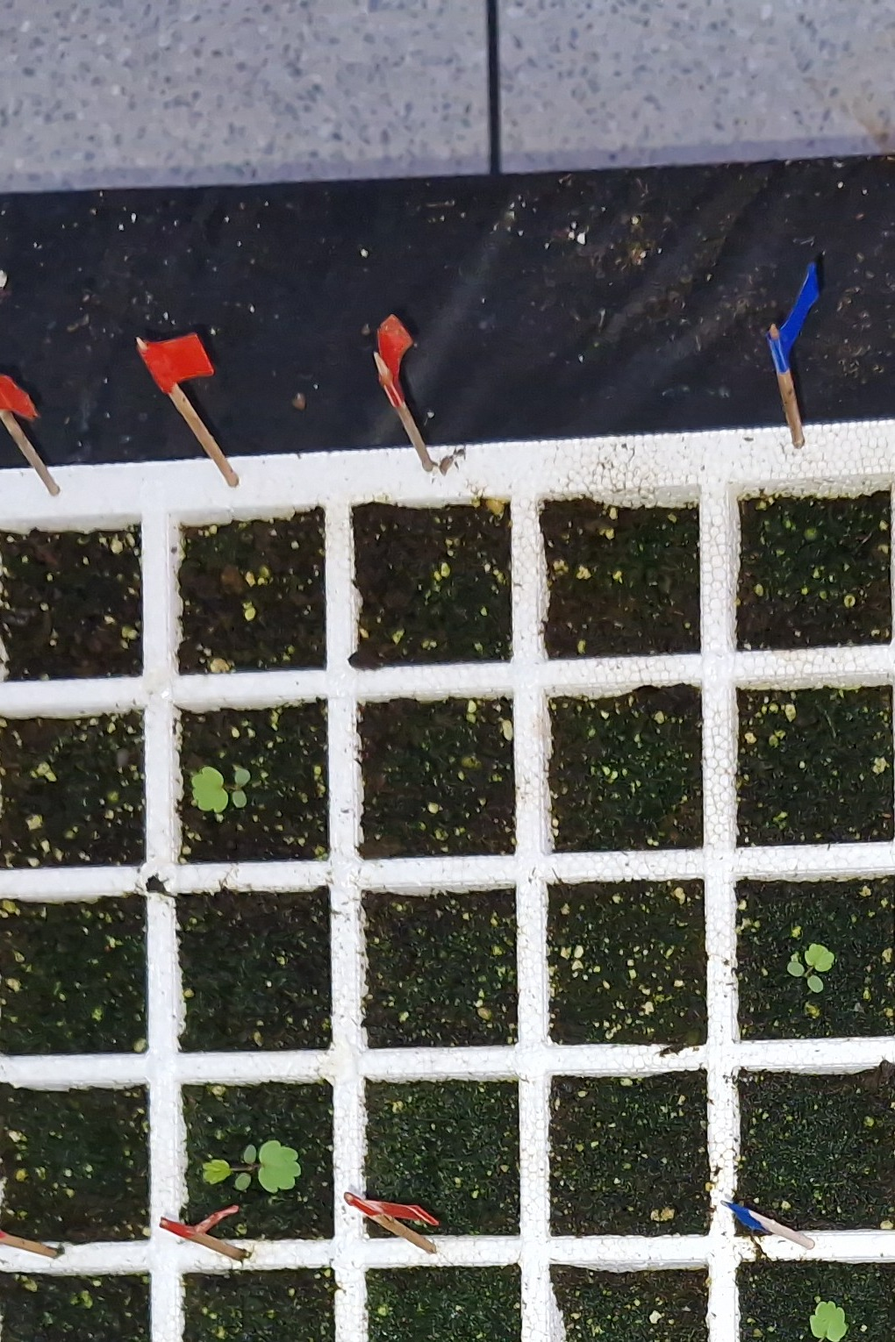Folha: (258, 1140, 300, 1193), (192, 768, 228, 812), (810, 1302, 848, 1341), (805, 944, 834, 971), (202, 1160, 231, 1184), (235, 1173, 251, 1190), (808, 975, 823, 993), (235, 769, 249, 786), (787, 962, 804, 976), (244, 1145, 256, 1164), (233, 791, 247, 807)
Germinacao: (203, 1140, 301, 1192), (190, 767, 251, 812), (788, 944, 835, 993), (791, 1301, 846, 1342)
